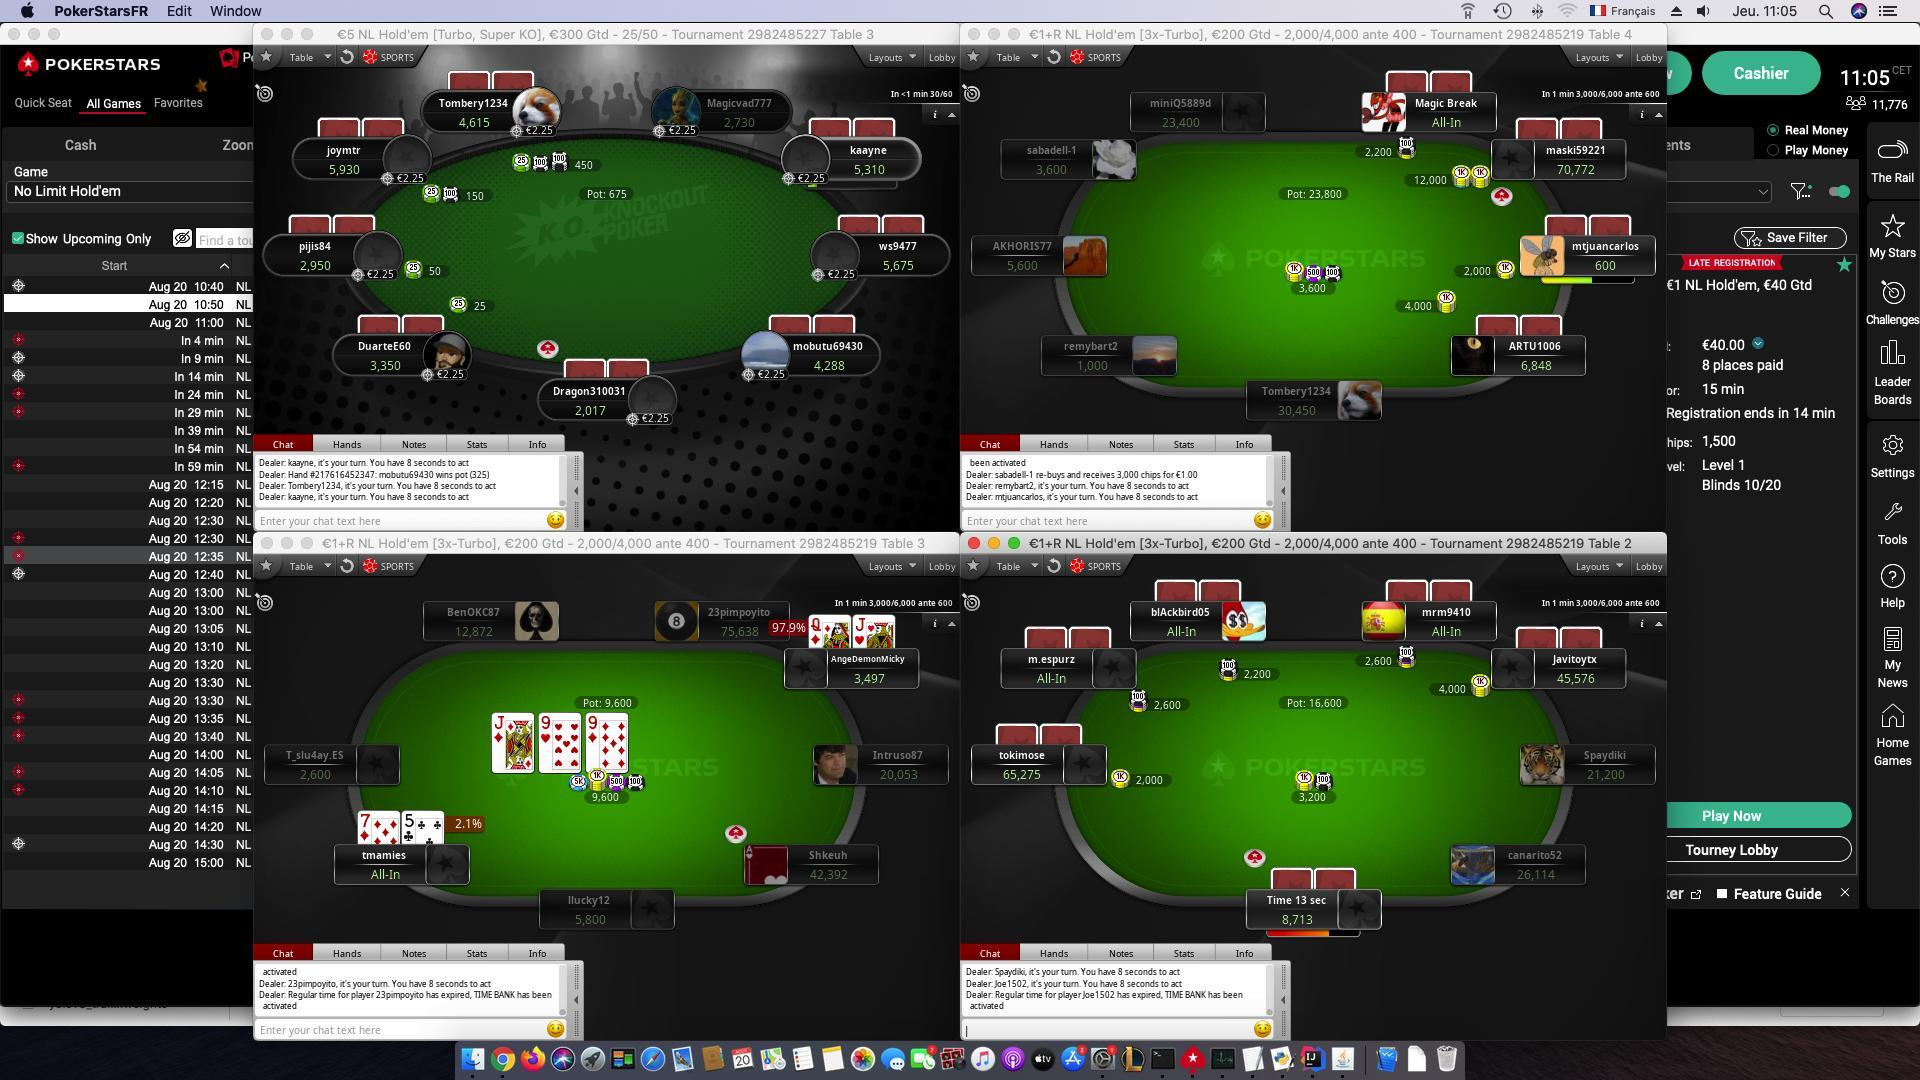7D: (401, 807, 418, 841), (357, 808, 371, 841)
9D: (583, 712, 603, 746)
9H: (537, 708, 553, 746)
JD: (491, 708, 506, 746)
JH: (851, 617, 872, 646)
QD: (807, 616, 825, 644)
